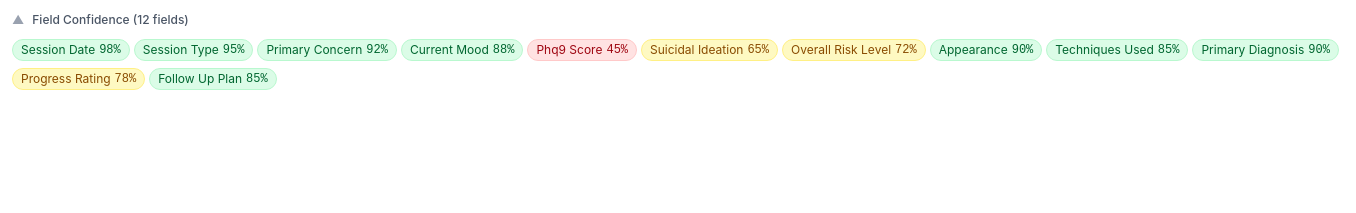
Test: ConfidenceHeatmap › collapses source detail on second chip click
The image size is (1356, 213).
Click the button titled "Session Date: 98%": (71, 50) [12, 39, 130, 61]
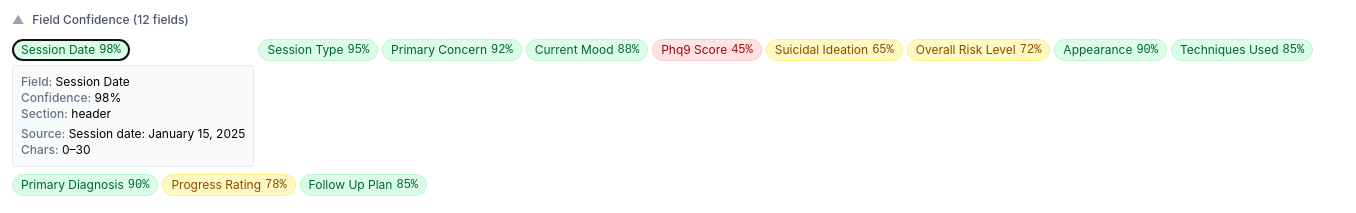
Expected: the text "Chars:" is shown, [21, 142, 59, 157]
Click the button titled "Session Date: 98%": (71, 50) [12, 39, 130, 61]
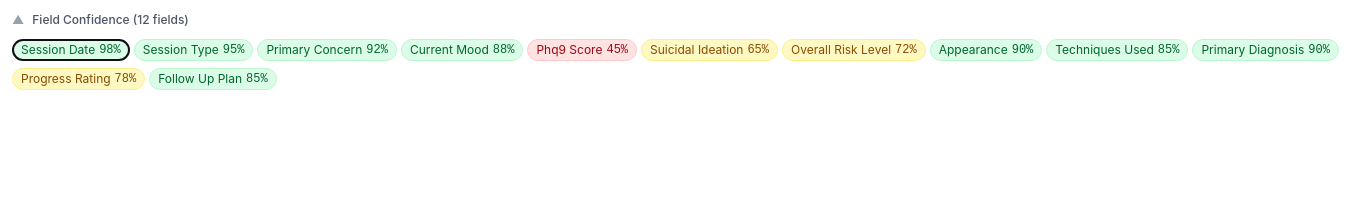
Expected: the text "Chars:" is gone
